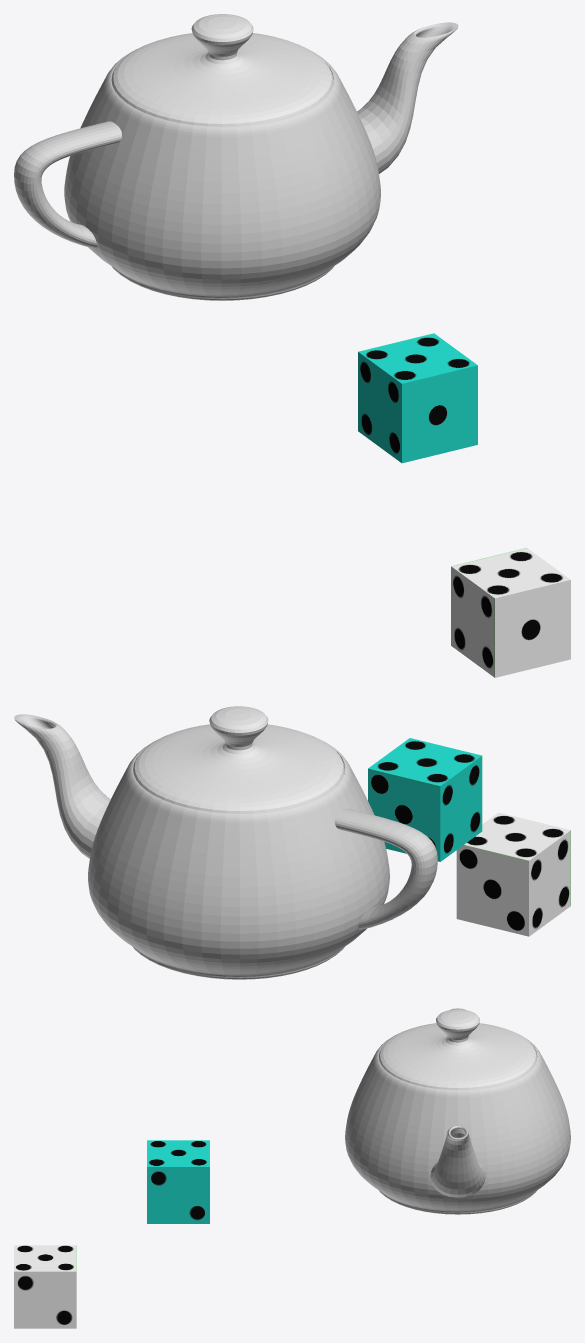
Rendered from EverythingTest.gltf.
The picture shows the model from 3 angles, top to bottom: view 1: azimuth 30°, elevation 25°; view 2: azimuth 150°, elevation 25°; view 3: azimuth 270°, elevation 25°; orthographic projection. The views are drawn at different scales.
Visible parts, largest first — view 1: teapot, Cube, TealCubeProp; view 2: teapot, Cube, TealCubeProp; view 3: teapot, Cube, TealCubeProp.
Part boxes in pixels (x1,y1,x2,y2): teapot: (14, 14, 458, 300); Cube: (451, 548, 570, 677); TealCubeProp: (358, 333, 477, 463); teapot: (14, 706, 437, 979); Cube: (456, 812, 570, 936); TealCubeProp: (368, 738, 482, 861); teapot: (345, 1008, 570, 1214); Cube: (14, 1245, 76, 1328); TealCubeProp: (147, 1140, 209, 1223).
Size of the model in its own units: 11.58 by 10.53 by 17.74.
4 materials, 2 textured.
